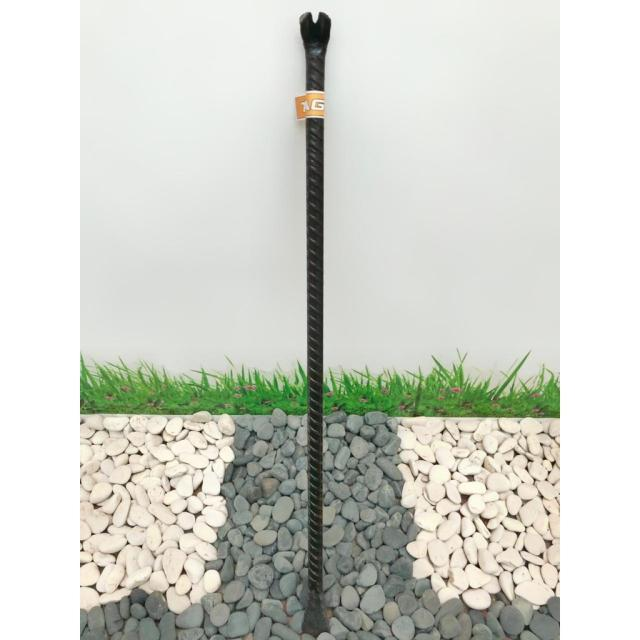Linggis: (300, 11, 331, 639)
